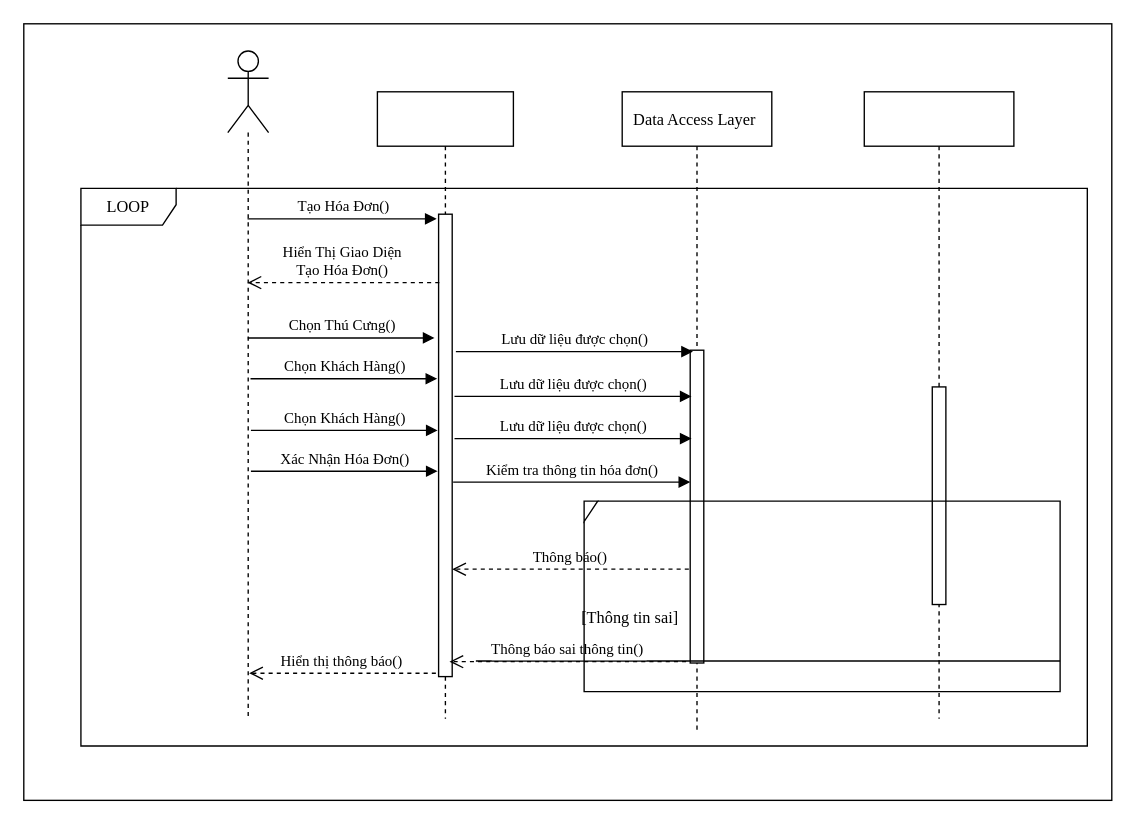
Some shapes in this 1136 by 824 pixel diagram are drawn without their labels. Each missing label, with the centre of its shape:
"Database" goes at [938,404].
"GUI" goes at [444,404].
